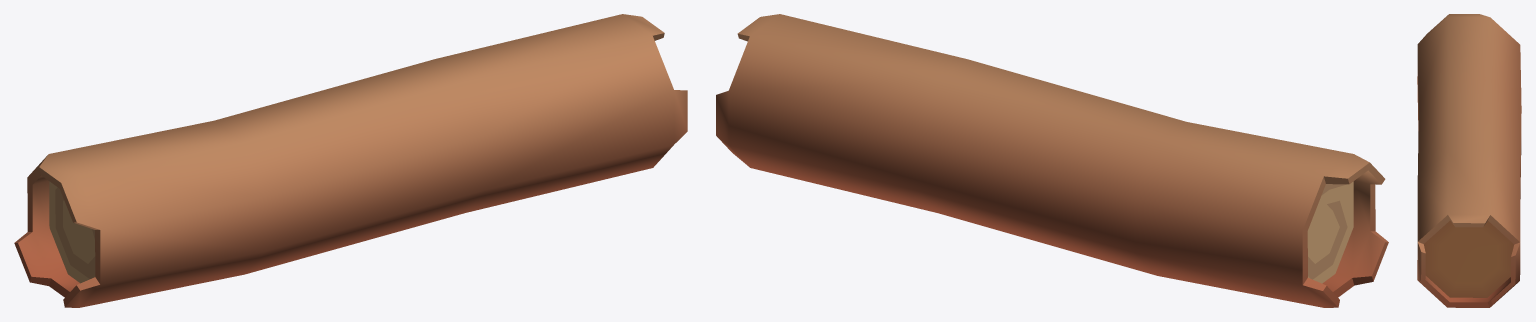
Rendered from Log.fbx.
3 views of the same model, side by side, from view 1: azimuth 30°, elevation 25°; view 2: azimuth 150°, elevation 25°; view 3: azimuth 270°, elevation 25° (orthographic). The views are drawn at different scales.
Visible parts, largest first — view 1: Cylinder.021; view 2: Cylinder.021; view 3: Cylinder.021.
Boxes of the visible parts, x1,y1,x2,y2 form: Cylinder.021: [14, 14, 687, 307]; Cylinder.021: [716, 14, 1388, 307]; Cylinder.021: [1417, 14, 1521, 307].
Size of the model in its own units: 544 by 121 by 115.
